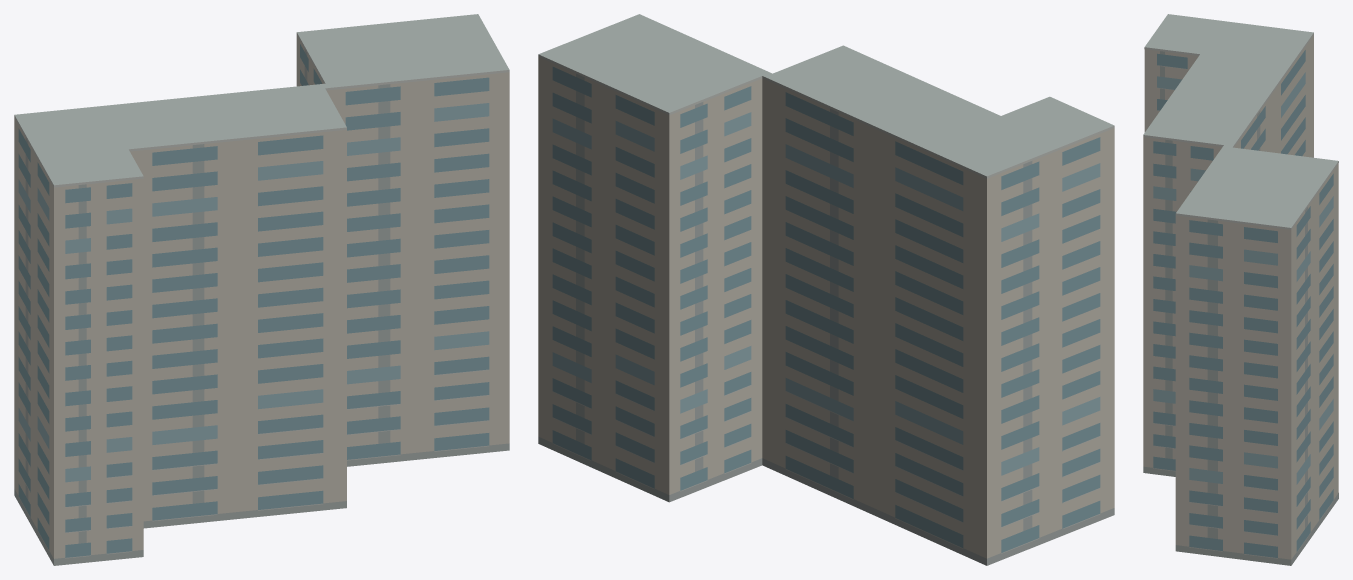
Rendered from residential-4f26e8d5-c3d9-49bf-a7c2-42379935c3a6.glb.
The picture shows the model from 3 angles, left to right: view 1: azimuth 30°, elevation 25°; view 2: azimuth 150°, elevation 25°; view 3: azimuth 270°, elevation 25°; orthographic projection. The views are drawn at different scales.
Parts seen in each view (by area): view 1: residential-4f26e8d5-c3d9-49bf-a7c2-42379935c3a6.tmp; view 2: residential-4f26e8d5-c3d9-49bf-a7c2-42379935c3a6.tmp; view 3: residential-4f26e8d5-c3d9-49bf-a7c2-42379935c3a6.tmp.
Part boxes in pixels (left/top/right/bottom): residential-4f26e8d5-c3d9-49bf-a7c2-42379935c3a6.tmp: left=14, top=14, right=509, bottom=565; residential-4f26e8d5-c3d9-49bf-a7c2-42379935c3a6.tmp: left=538, top=14, right=1114, bottom=565; residential-4f26e8d5-c3d9-49bf-a7c2-42379935c3a6.tmp: left=1143, top=14, right=1338, bottom=565.
Bounding box in the file's own units: 55.67 × 41 × 21.52.
